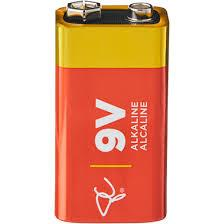9V Battery: (53, 0, 168, 224)
